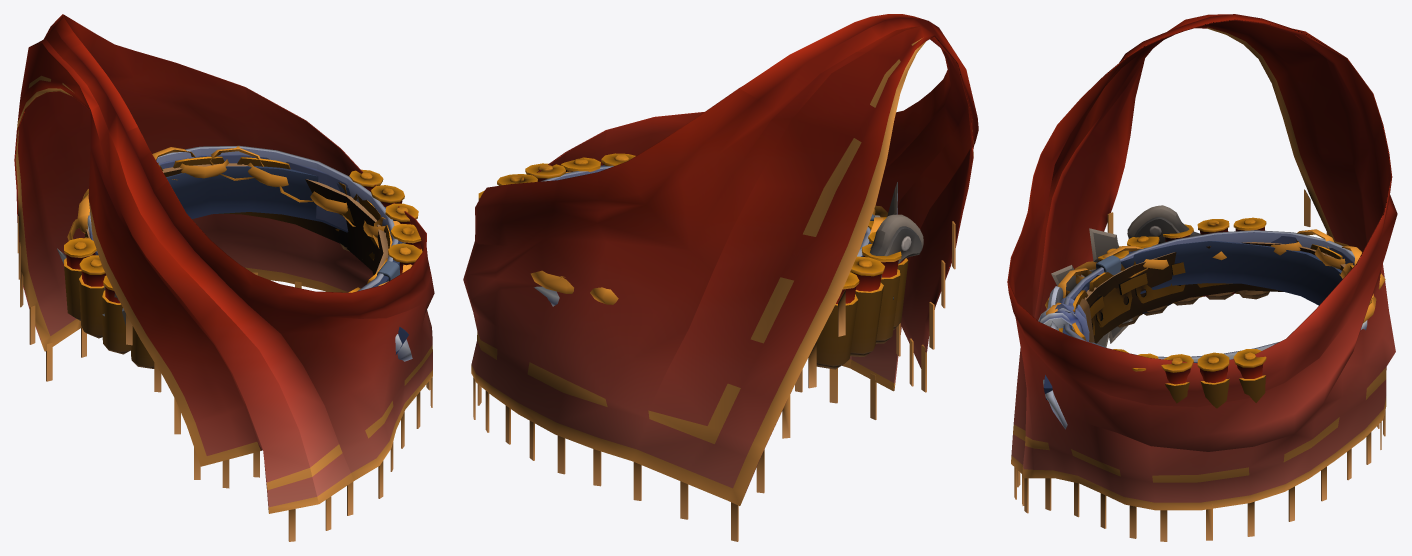
File: BTLMN_Outfit_Cloth_A.glb
3 views of the same model, side by side, from view 1: azimuth 30°, elevation 25°; view 2: azimuth 150°, elevation 25°; view 3: azimuth 270°, elevation 25° (orthographic). The views are drawn at different scales.
Parts seen in each view (by area): view 1: Cloth_Poncho_CA01, Cloth_Bandolier_MA02, Cloth_Skull_Belt_PA01, Cloth_Chain_Gold_RA01, Cloth_Cheef_Sash_KA01, Cloth_Eastern_Armor_Belt_NA02, Cloth_Ninja_Waistband_NA01; view 2: Cloth_Poncho_CA01, Cloth_Bandolier_MA02, Cloth_Skull_Belt_PA01, Cloth_Chain_Gold_RA01, Cloth_Cheef_Sash_KA01; view 3: Cloth_Poncho_CA01, Cloth_Bandolier_MA02, Cloth_Skull_Belt_PA01, Cloth_Cheef_Sash_KA01, Cloth_Eastern_Armor_Belt_NA02, Cloth_Chain_Gold_RA01, Cloth_Ninja_Waistband_NA01.
Boxes of the visible parts, x1=… form: Cloth_Poncho_CA01: x1=14, y1=14, x2=434, y2=541; Cloth_Bandolier_MA02: x1=64, y1=163, x2=422, y2=368; Cloth_Skull_Belt_PA01: x1=57, y1=166, x2=408, y2=354; Cloth_Chain_Gold_RA01: x1=67, y1=146, x2=412, y2=285; Cloth_Cheef_Sash_KA01: x1=87, y1=145, x2=412, y2=361; Cloth_Eastern_Armor_Belt_NA02: x1=159, y1=156, x2=392, y2=292; Cloth_Ninja_Waistband_NA01: x1=89, y1=154, x2=348, y2=325; Cloth_Poncho_CA01: x1=463, y1=14, x2=978, y2=541; Cloth_Bandolier_MA02: x1=478, y1=153, x2=908, y2=369; Cloth_Skull_Belt_PA01: x1=600, y1=165, x2=923, y2=277; Cloth_Chain_Gold_RA01: x1=530, y1=171, x2=887, y2=304; Cloth_Cheef_Sash_KA01: x1=534, y1=165, x2=870, y2=306; Cloth_Poncho_CA01: x1=1007, y1=14, x2=1397, y2=541; Cloth_Bandolier_MA02: x1=1058, y1=217, x2=1345, y2=408; Cloth_Skull_Belt_PA01: x1=1043, y1=205, x2=1342, y2=399; Cloth_Cheef_Sash_KA01: x1=1038, y1=230, x2=1367, y2=429; Cloth_Eastern_Armor_Belt_NA02: x1=1072, y1=240, x2=1353, y2=340; Cloth_Chain_Gold_RA01: x1=1045, y1=229, x2=1385, y2=322; Cloth_Ninja_Waistband_NA01: x1=1051, y1=228, x2=1354, y2=359.
Size of the model in its own units: 1.06 by 1.23 by 1.03.
Materials: 3 (3 with a texture image).
